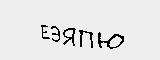Е: (40, 23, 49, 43)
П: (79, 31, 95, 49)
Э: (49, 25, 62, 44)
Ю: (97, 29, 123, 51)
Я: (62, 27, 75, 47)
